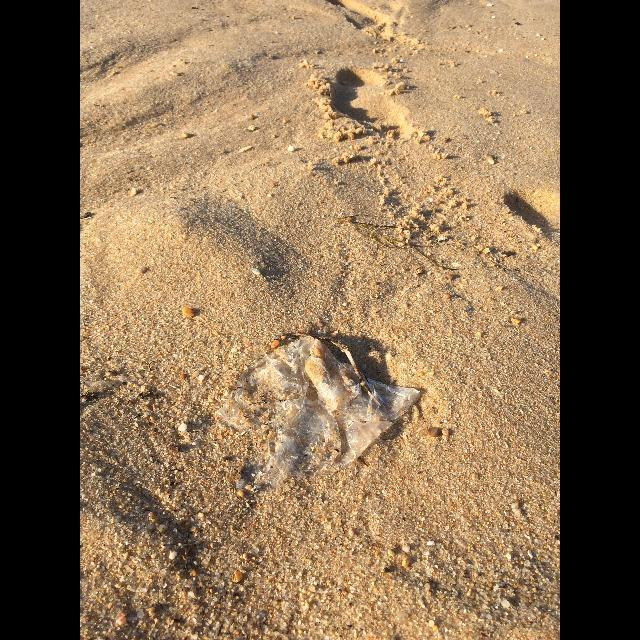Plastic: (214, 336, 420, 494)
